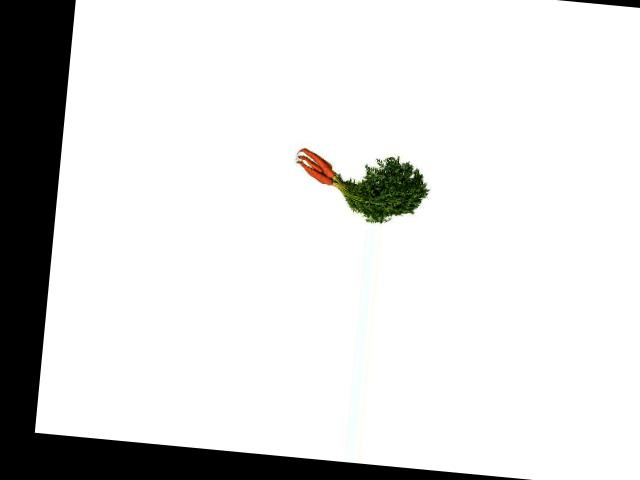carrot: (301, 148, 340, 177)
